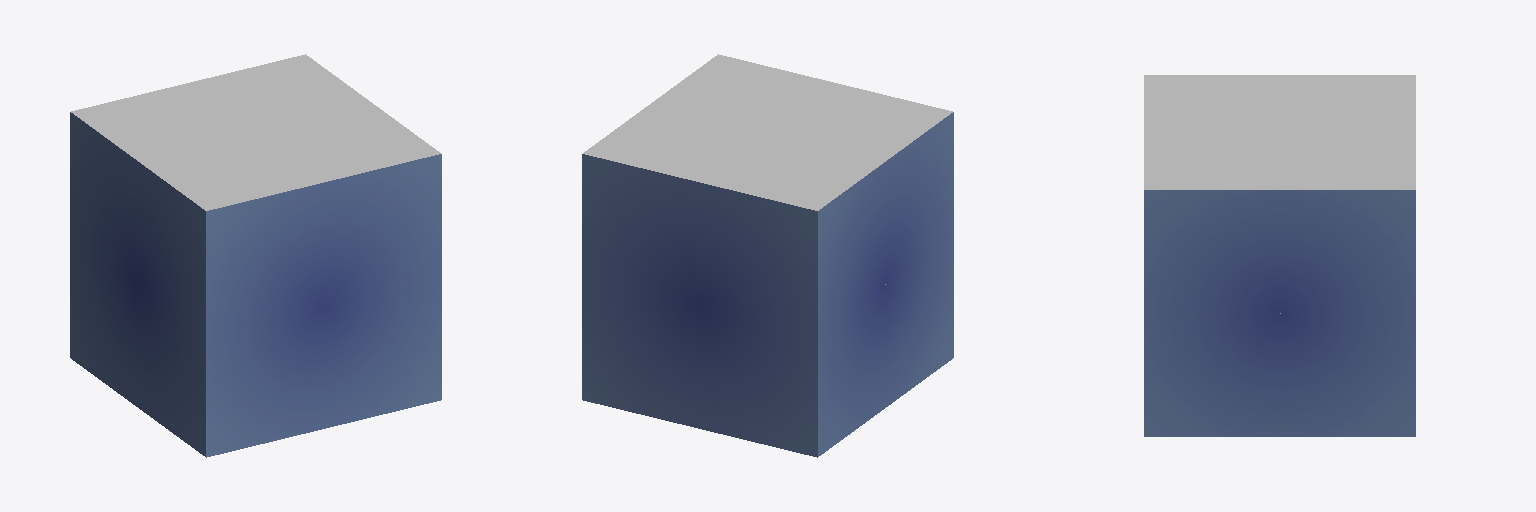
3 renders of one model, left to right at view 1: azimuth 30°, elevation 25°; view 2: azimuth 150°, elevation 25°; view 3: azimuth 270°, elevation 25°, orthographic.
Parts seen in each view (by area): view 1: Cube.001; view 2: Cube.001; view 3: Cube.001.
Boxes of the visible parts, box(x1,y1,x2,y2) form: Cube.001: box(70, 54, 441, 457); Cube.001: box(582, 54, 953, 457); Cube.001: box(1144, 75, 1415, 436).
Bounding box in the file's own units: 600 × 600 × 600.
3 materials, 1 textured.